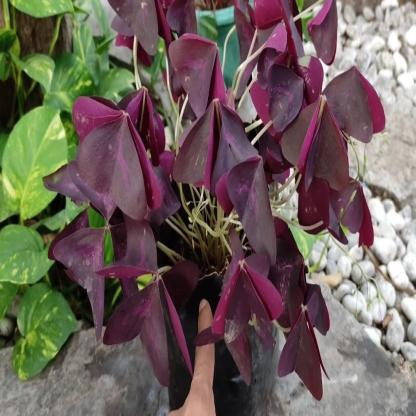Kupu-Kupu: (44, 189, 194, 382), (70, 88, 160, 220), (208, 257, 291, 388), (181, 90, 252, 220), (290, 69, 351, 218)
